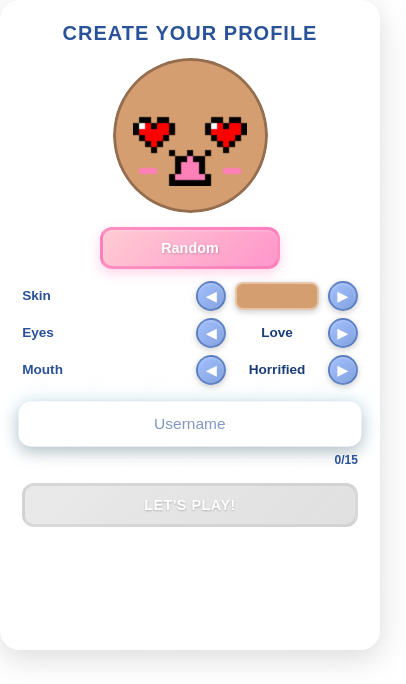
ProfileMenu Component › Profile Submission › should handle socket failure gracefully
The width and height of the screenshot is (406, 684).
Type "TestUser" into the field.
click(190, 424); type("TestUser")  # box 19,402 -> 361,447
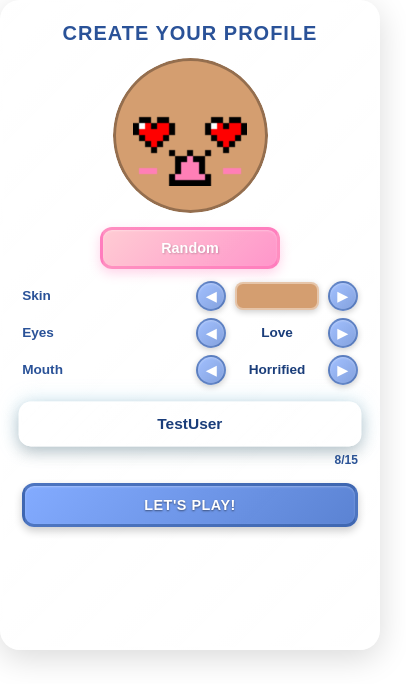
Click the button "Let's Play!".
click(190, 505)  # box 22,483 -> 358,527
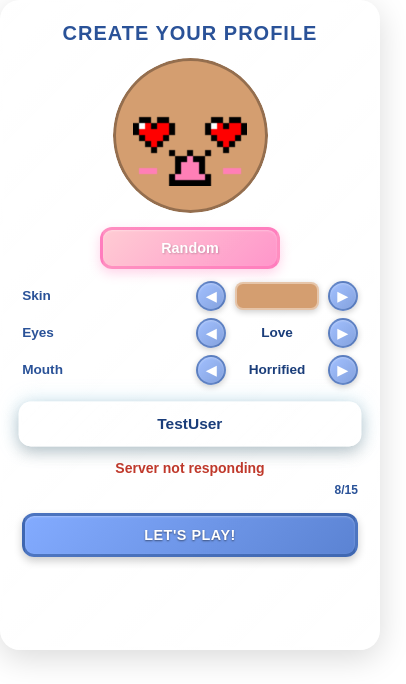
Expected: the text "Server not responding" is shown, 115,460 -> 265,476
